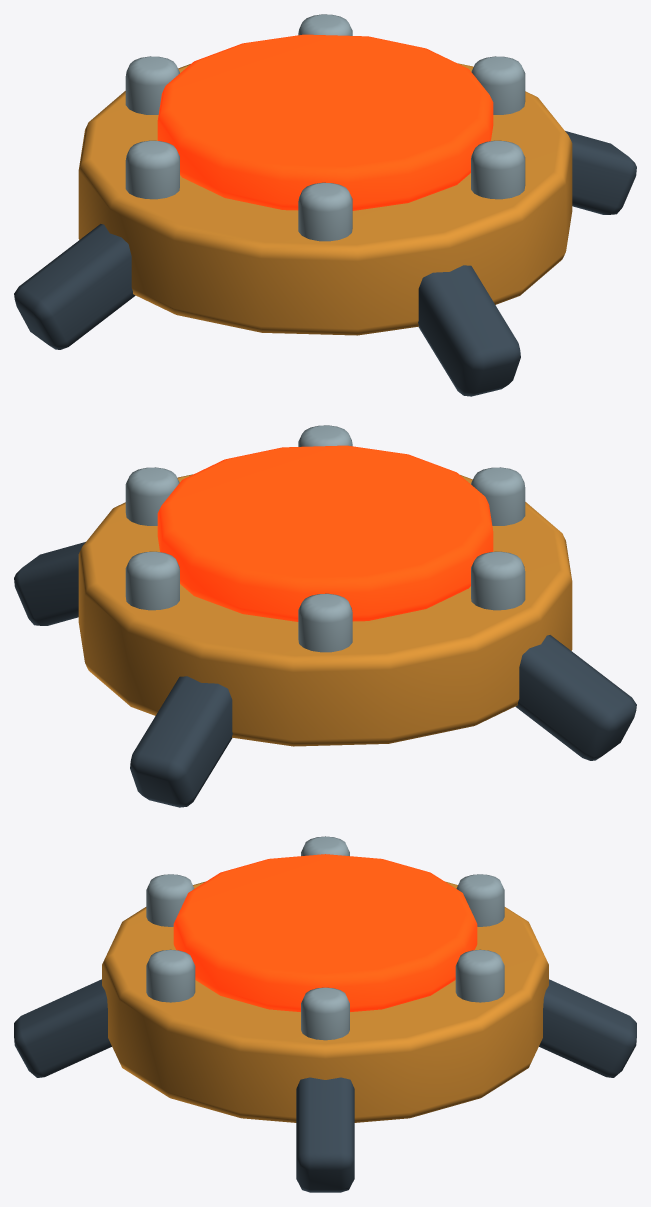
File: MineLander_Special.fbx
The picture shows the model from 3 angles, top to bottom: view 1: azimuth 30°, elevation 25°; view 2: azimuth 150°, elevation 25°; view 3: azimuth 270°, elevation 25°; orthographic projection. The views are drawn at different scales.
Parts seen in each view (by area): view 1: Mine disc.001, Pressure plate.001, Anchor tooth.001, Anchor tooth.002, Anchor tooth, Trigger stud.008, Trigger stud.007, Trigger stud.009, Trigger stud.010, Trigger stud.006, Trigger stud.011; view 2: Mine disc.001, Pressure plate.001, Anchor tooth.003, Anchor tooth.002, Anchor tooth, Trigger stud.010, Trigger stud.009, Trigger stud.011, Trigger stud.008, Trigger stud.006, Trigger stud.007; view 3: Mine disc.001, Pressure plate.001, Anchor tooth, Anchor tooth.001, Anchor tooth.003, Trigger stud.007, Trigger stud.011, Trigger stud.006, Trigger stud.008, Trigger stud.010, Trigger stud.009.
Part boxes in pixels (x1,y1,x2,y2): Mine disc.001: [78, 63, 572, 335]; Pressure plate.001: [157, 34, 493, 210]; Anchor tooth.001: [418, 265, 520, 396]; Anchor tooth.002: [14, 224, 135, 349]; Anchor tooth: [565, 131, 636, 214]; Trigger stud.008: [298, 182, 352, 241]; Trigger stud.007: [471, 140, 525, 199]; Trigger stud.009: [125, 140, 179, 199]; Trigger stud.010: [125, 56, 179, 114]; Trigger stud.006: [471, 56, 525, 114]; Trigger stud.011: [298, 14, 352, 35]; Mine disc.001: [78, 474, 572, 746]; Pressure plate.001: [157, 445, 493, 621]; Anchor tooth.003: [130, 676, 232, 807]; Anchor tooth.002: [515, 635, 636, 760]; Anchor tooth: [14, 542, 85, 625]; Trigger stud.010: [298, 593, 352, 652]; Trigger stud.009: [471, 551, 525, 610]; Trigger stud.011: [125, 551, 179, 610]; Trigger stud.008: [471, 467, 525, 525]; Trigger stud.006: [125, 467, 179, 525]; Trigger stud.007: [298, 425, 352, 446]; Mine disc.001: [102, 881, 548, 1122]; Pressure plate.001: [173, 854, 477, 1011]; Anchor tooth: [296, 1077, 354, 1192]; Anchor tooth.001: [14, 979, 111, 1077]; Anchor tooth.003: [539, 979, 636, 1077]; Trigger stud.007: [146, 949, 195, 1002]; Trigger stud.011: [455, 949, 504, 1002]; Trigger stud.006: [301, 987, 349, 1040]; Trigger stud.008: [146, 874, 194, 926]; Trigger stud.010: [456, 874, 504, 926]; Trigger stud.009: [301, 836, 349, 855].
Size of the model in its own units: 139 by 38.63 by 139.
